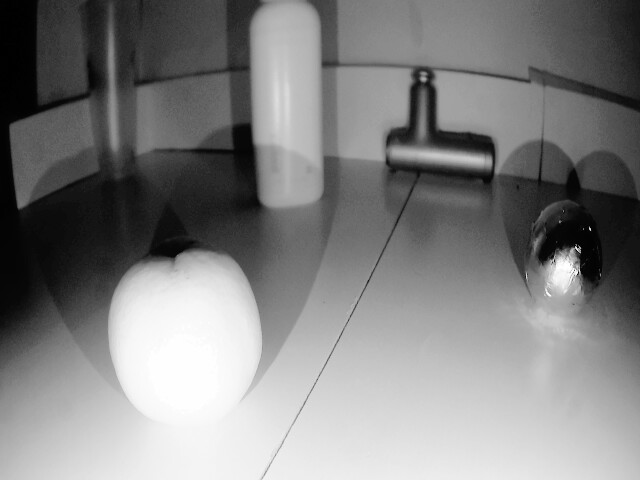silver: (527, 194, 592, 320)
